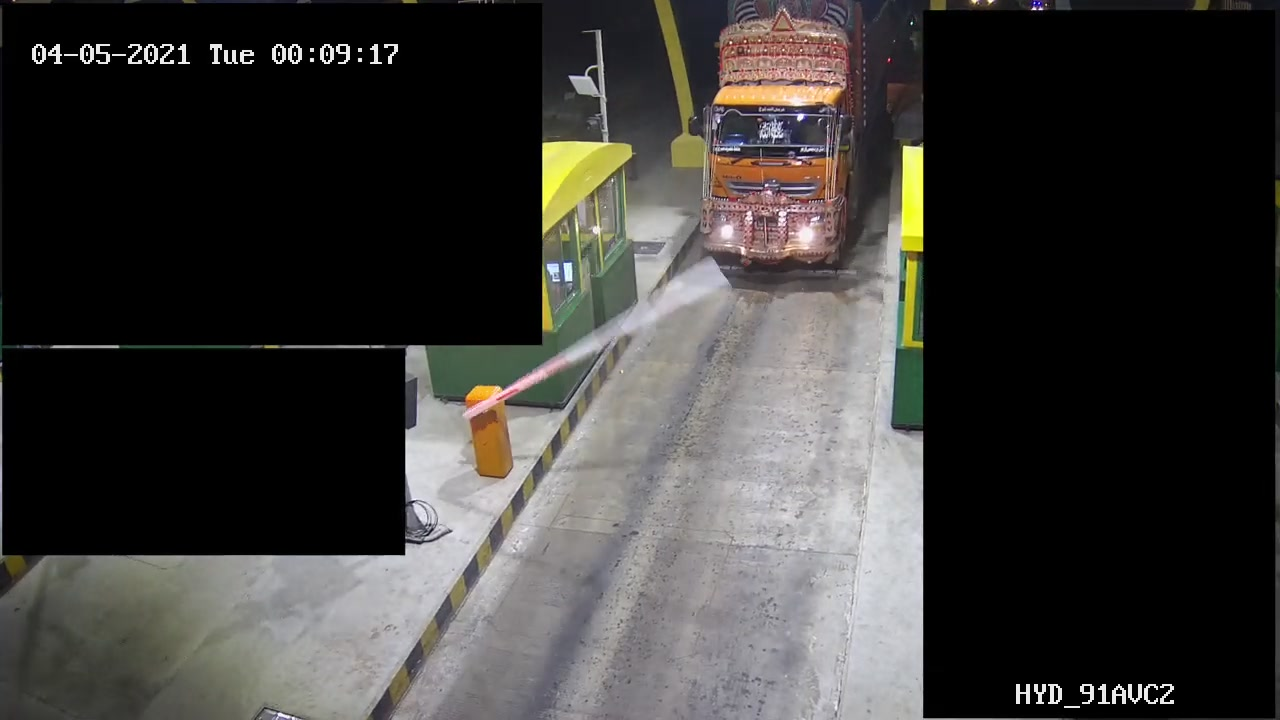F6: (694, 1, 874, 288)
